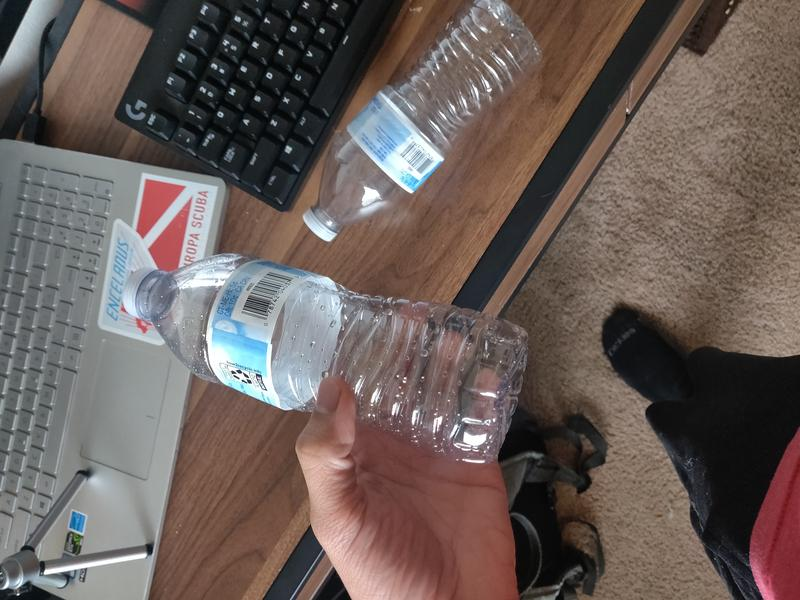bottle: (122, 253, 527, 468), (302, 1, 542, 245)
